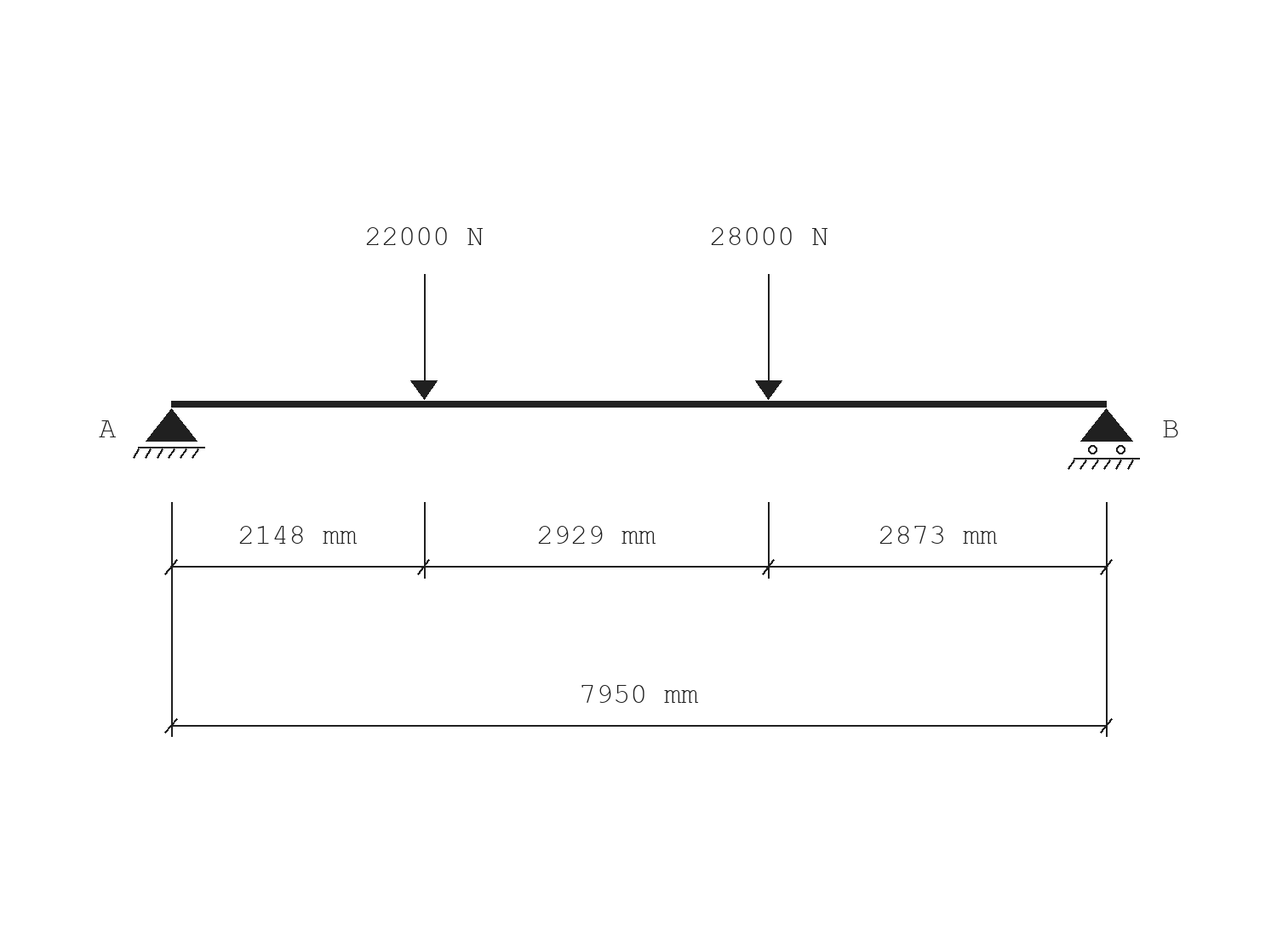pin_support: (133, 408, 205, 459)
point_load: (410, 274, 438, 400), (755, 274, 782, 400)
roller_support: (1068, 408, 1140, 470)
